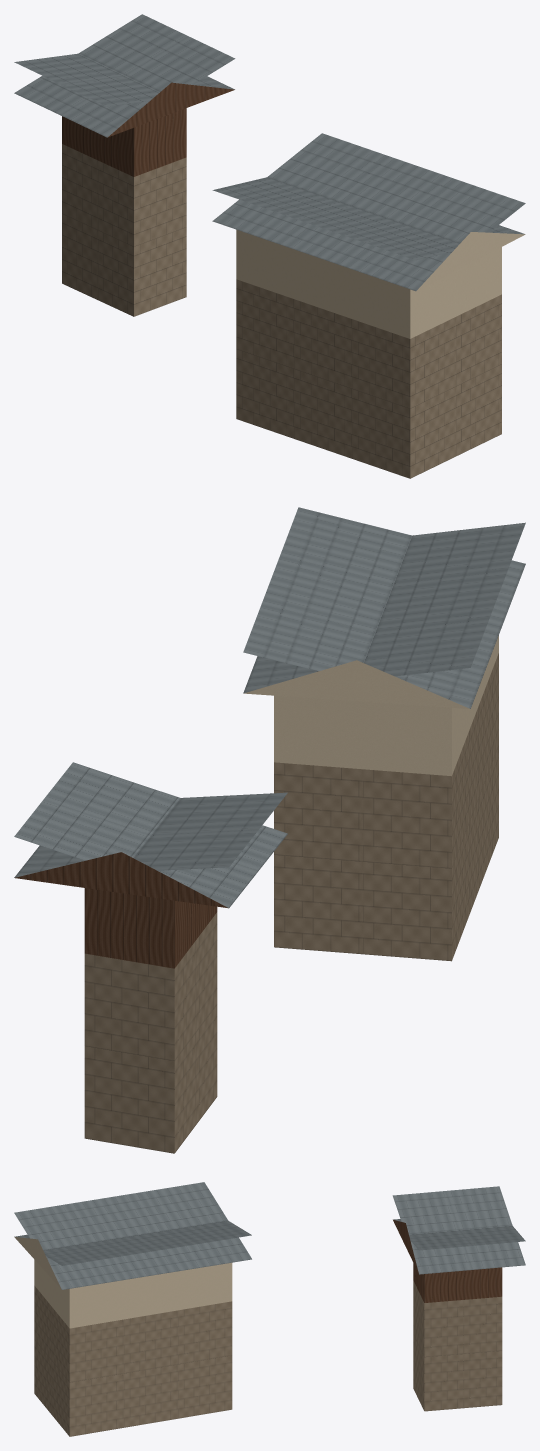
Rendered from bld_c37_-28_436.gltf.
The picture shows the model from 3 angles, top to bottom: view 1: azimuth 30°, elevation 25°; view 2: azimuth 150°, elevation 25°; view 3: azimuth 270°, elevation 25°; orthographic projection. The views are drawn at different scales.
Parts seen in each view (by area): view 1: bld_c37_-28_436; view 2: bld_c37_-28_436; view 3: bld_c37_-28_436.
Boxes of the visible parts, box(x1,y1,x2,y2) form: bld_c37_-28_436: box(14, 14, 525, 478); bld_c37_-28_436: box(14, 507, 525, 1153); bld_c37_-28_436: box(14, 1182, 525, 1436).
Bounding box in the file's own units: 7.74 × 7.7 × 19.27.
Materials: 6 (6 with a texture image).
